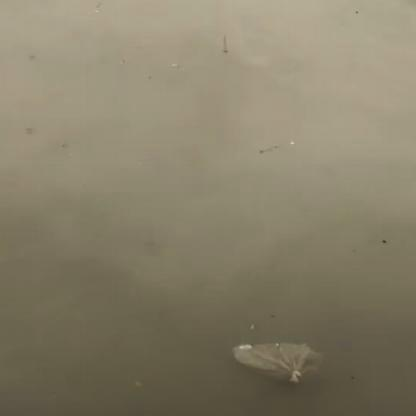Trash: (231, 345, 325, 386)
